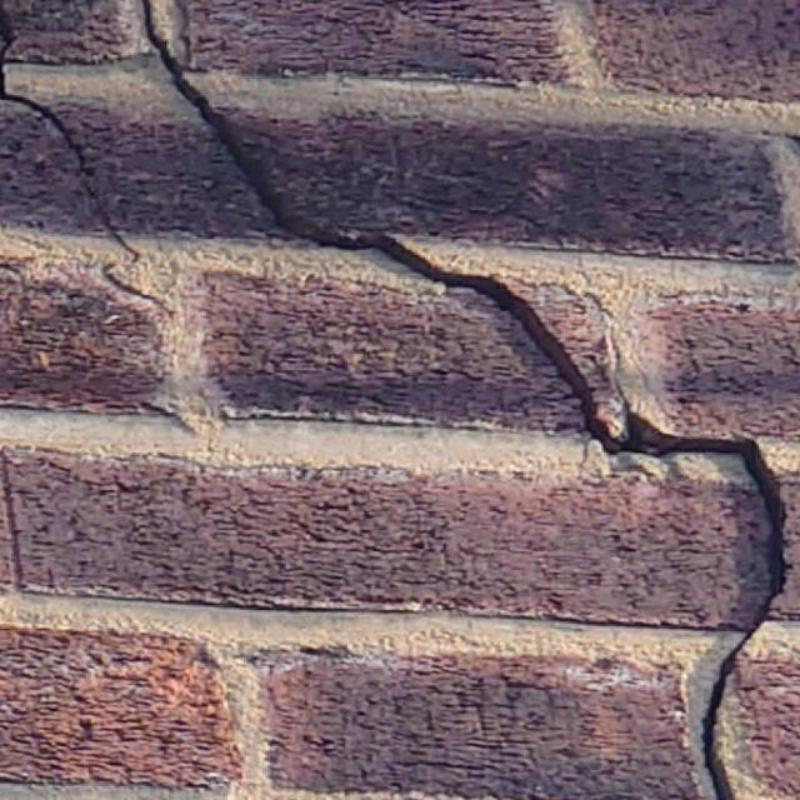pothole: (145, 0, 786, 799), (0, 0, 142, 264), (104, 262, 175, 318)
